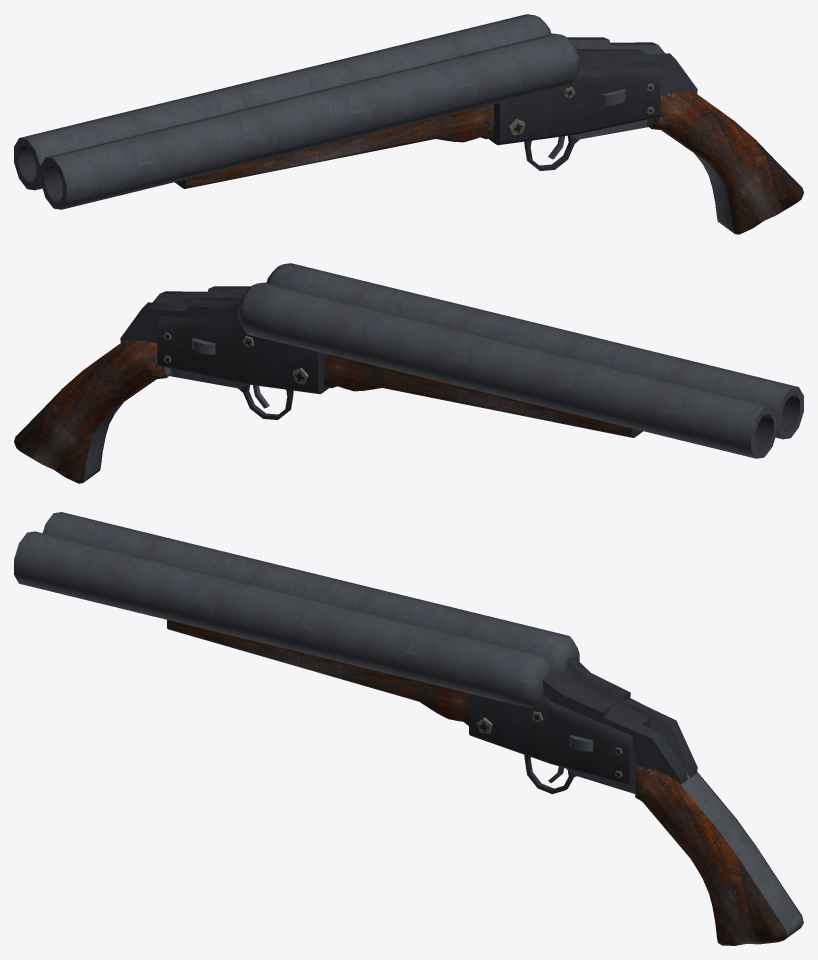
The model's file is gun-04.fbx.
The picture shows the model from 3 angles, top to bottom: view 1: azimuth 30°, elevation 25°; view 2: azimuth 150°, elevation 25°; view 3: azimuth 330°, elevation 25°; orthographic projection.
Parts seen in each view (by area): view 1: Cylinder.085; view 2: Cylinder.085; view 3: Cylinder.085.
Part boxes in pixels (left/top/right/bottom): Cylinder.085: left=14, top=14, right=803, bottom=234; Cylinder.085: left=14, top=263, right=803, bottom=483; Cylinder.085: left=14, top=512, right=803, bottom=945.
Size of the model in its own units: 1.14 by 0.3572 by 0.1375.
